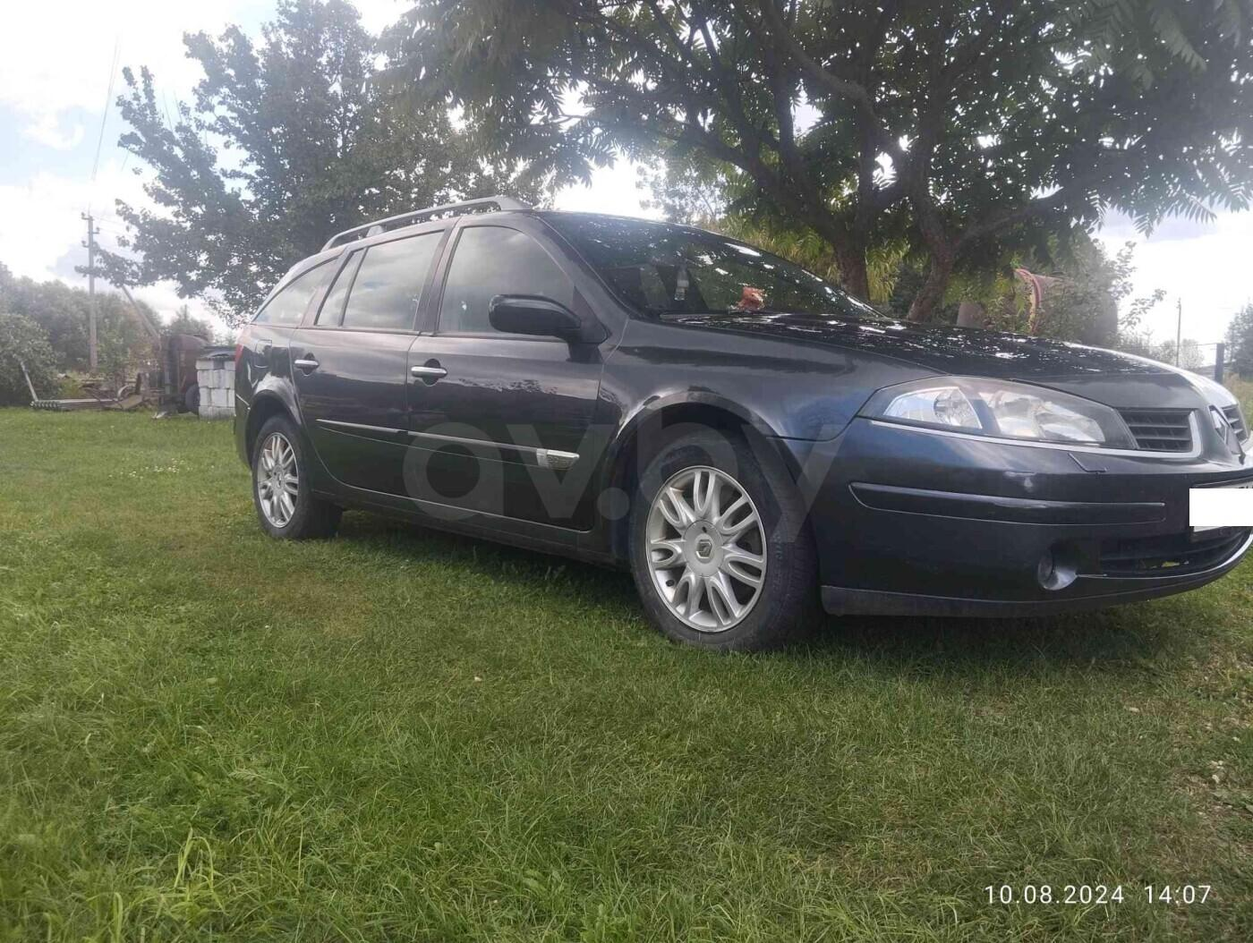Laguna_2005-2007: (230, 202, 1253, 647)
